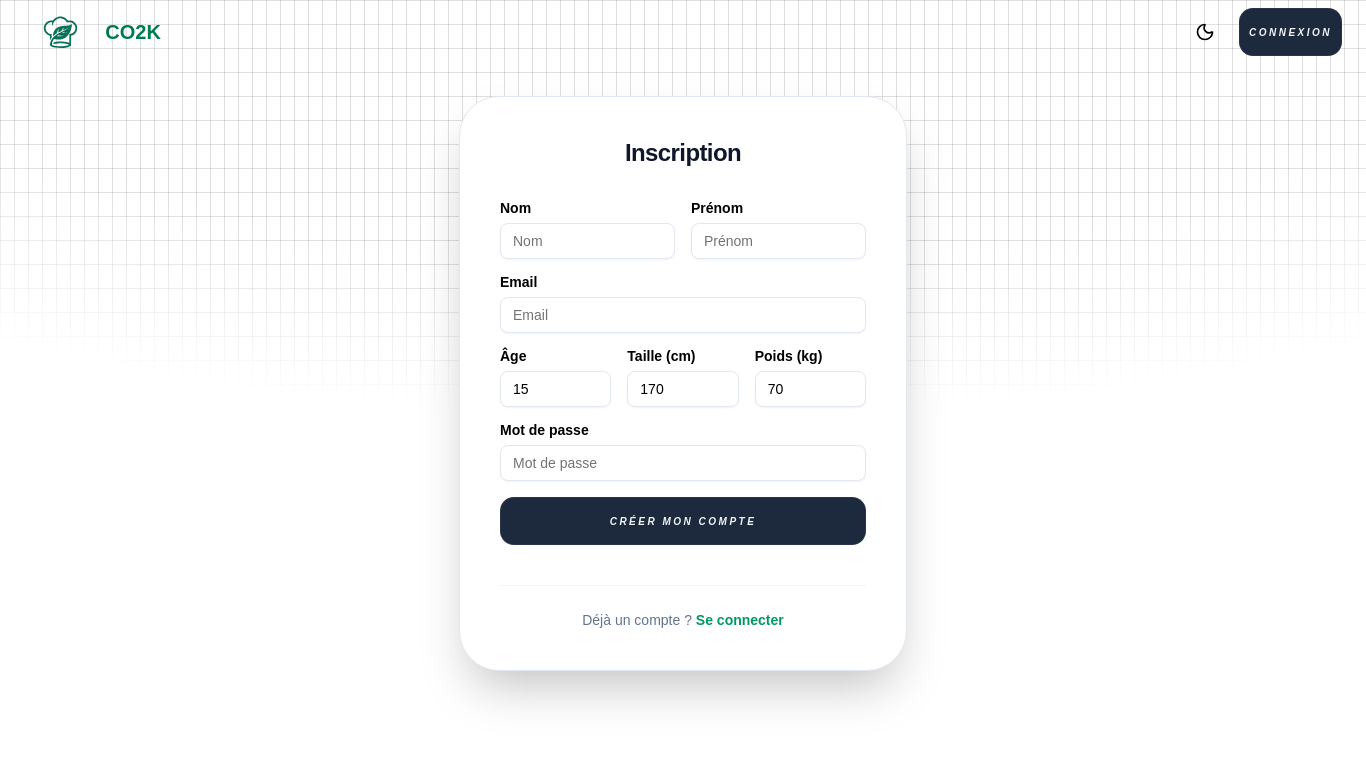
Test: Test Inscription › Email deja utilisé
Step 1. Type "testeur" into the field named "nom" → (588, 241), box [500, 223, 675, 259]
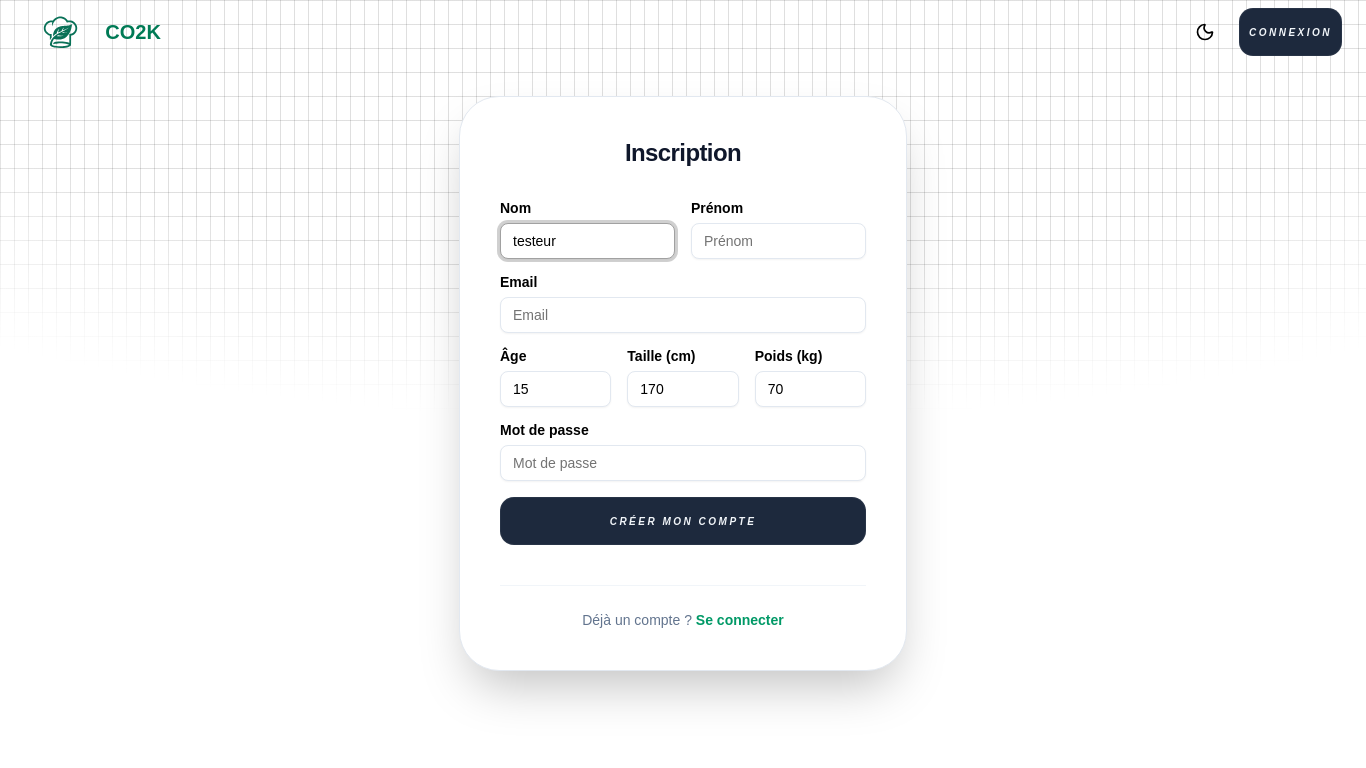
Step 2. Type "Test" into the field named "prenom" → (779, 241), box [691, 223, 866, 259]
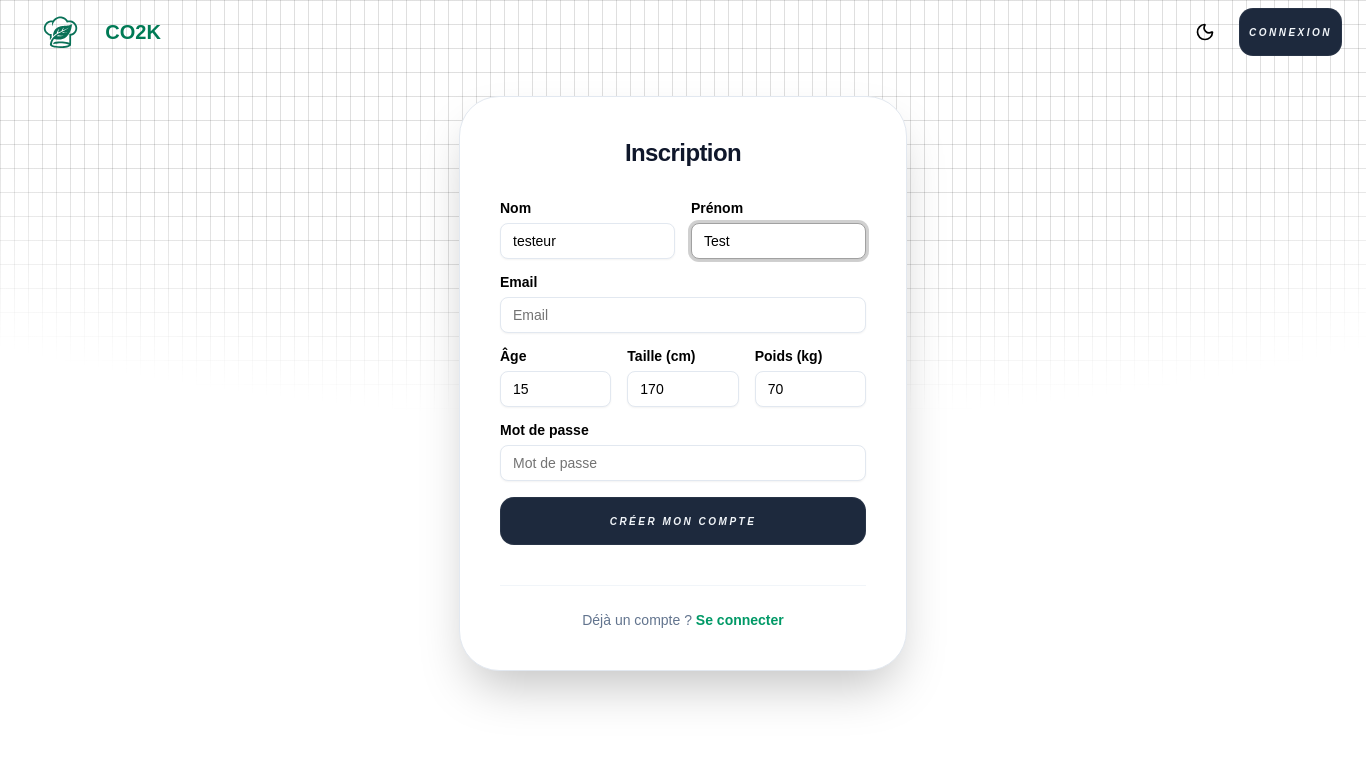
Step 3. Type "deja@pris.fr" into the field named "email" → (683, 315), box [500, 297, 866, 333]
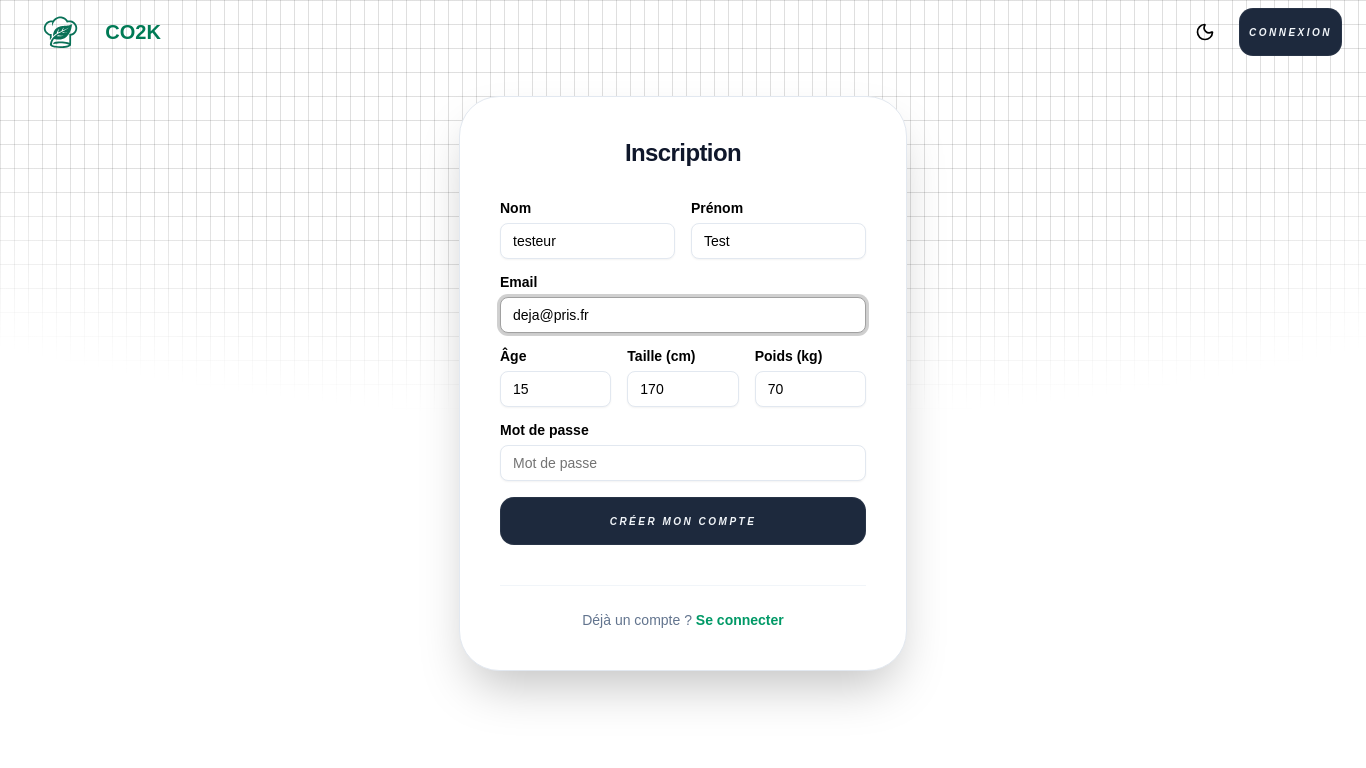
Step 4. Type "mdptesteur" into the password field named "password" → (683, 463), box [500, 445, 866, 481]
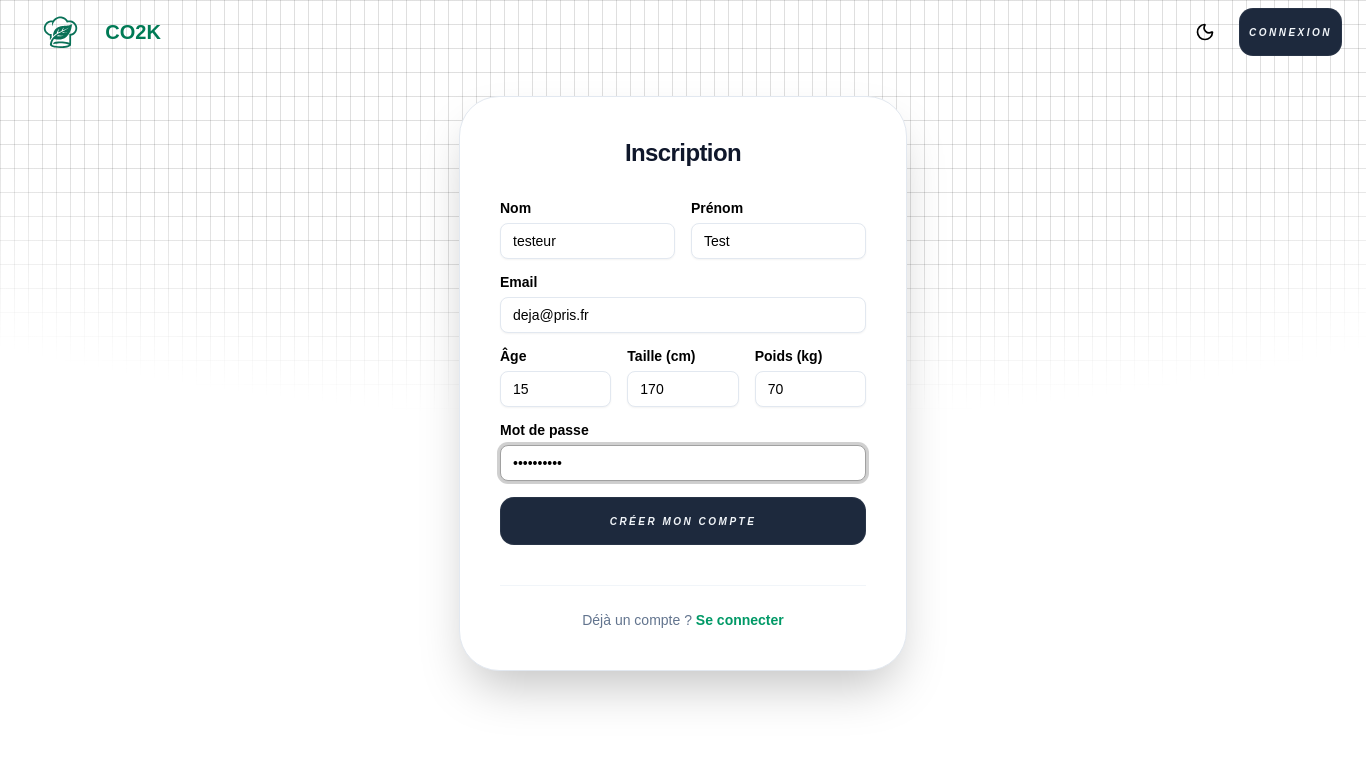
Step 5. Click the submit button → (683, 521), box [500, 497, 866, 545]
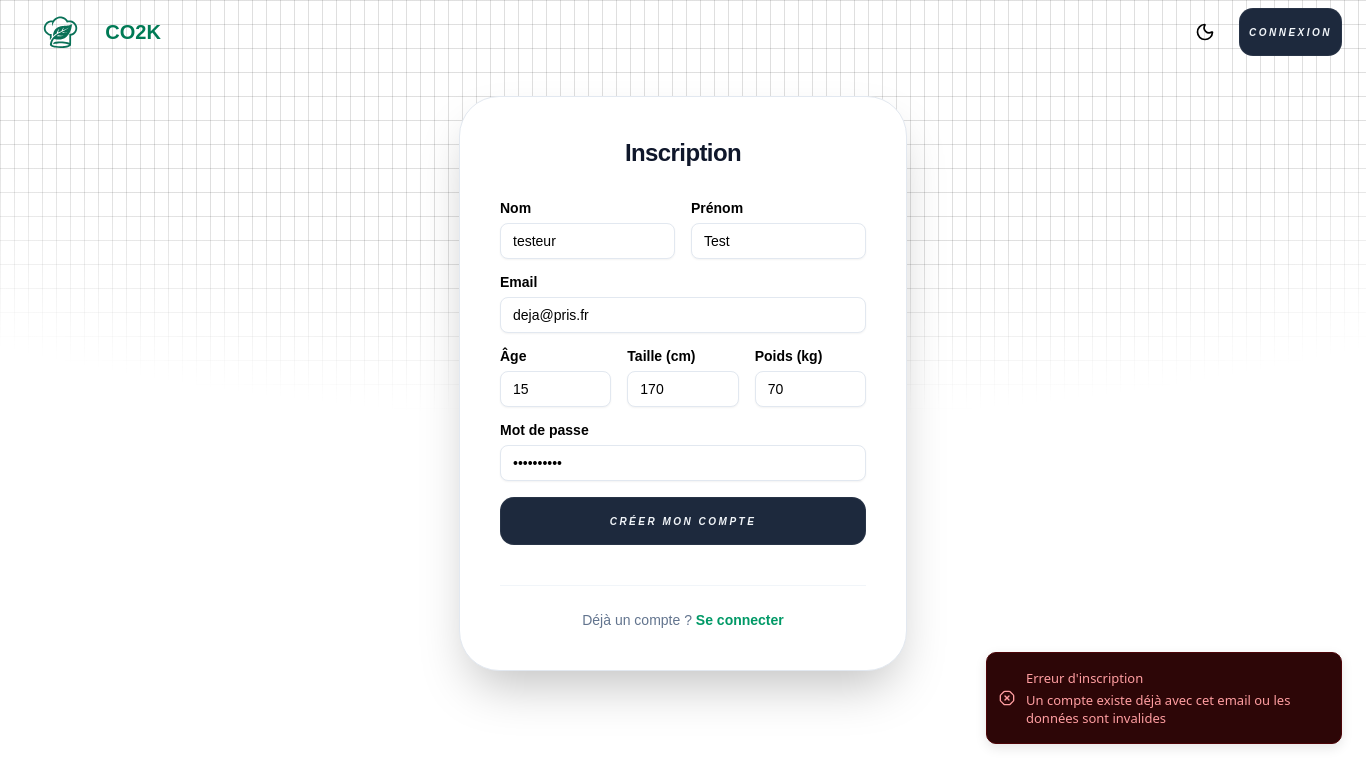
Expected: the text "Erreur d'inscription" is shown, [1026, 669, 1143, 687]
